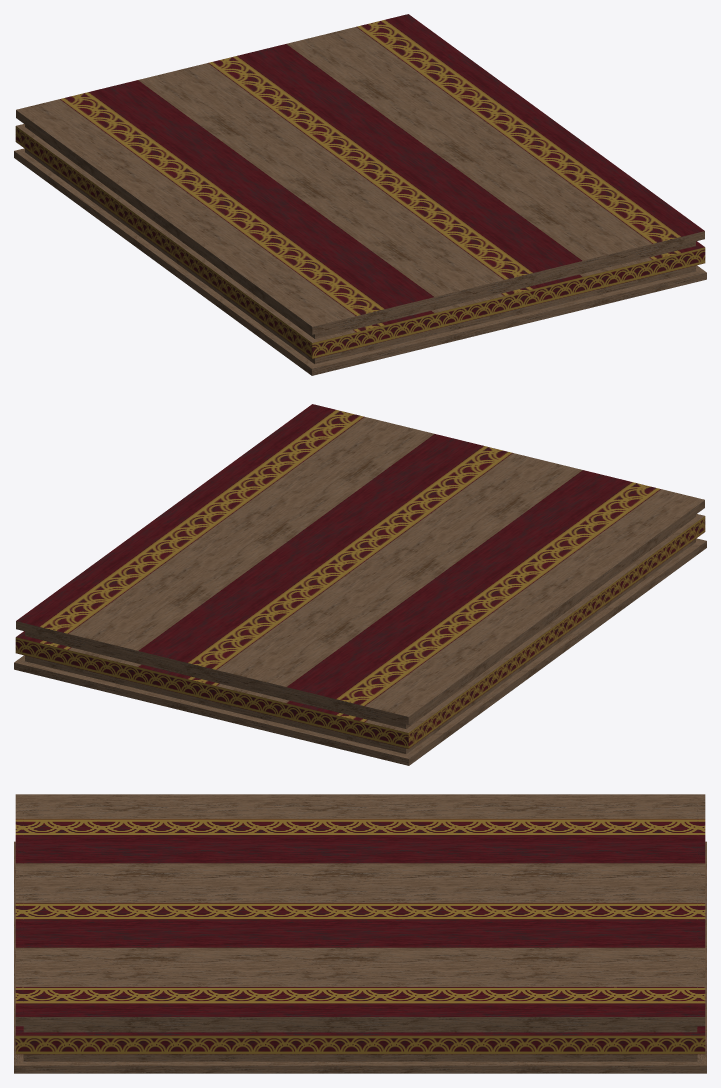
File: SM_roof_temple_03.fbx
The picture shows the model from 3 angles, top to bottom: view 1: azimuth 30°, elevation 25°; view 2: azimuth 150°, elevation 25°; view 3: azimuth 270°, elevation 25°; orthographic projection. The views are drawn at different scales.
Visible parts, largest first — view 1: SM_roof_temple_03; view 2: SM_roof_temple_03; view 3: SM_roof_temple_03.
Part boxes in pixels (left/top/right/bottom): SM_roof_temple_03: left=14, top=14, right=706, bottom=375; SM_roof_temple_03: left=14, top=404, right=706, bottom=765; SM_roof_temple_03: left=14, top=794, right=706, bottom=1073.
Bounding box in the file's own units: 1067 × 1393 × 125.
2 materials, 2 textured.
